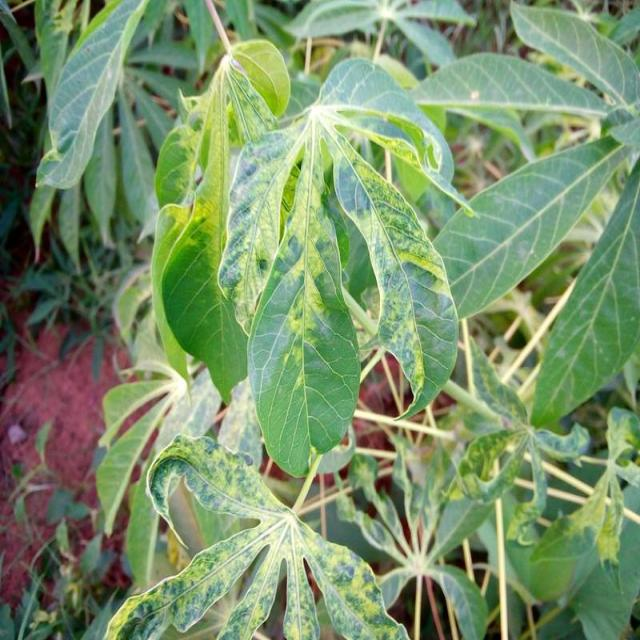cassava leaf: (154, 49, 467, 476), (105, 432, 411, 638), (530, 156, 640, 432)
